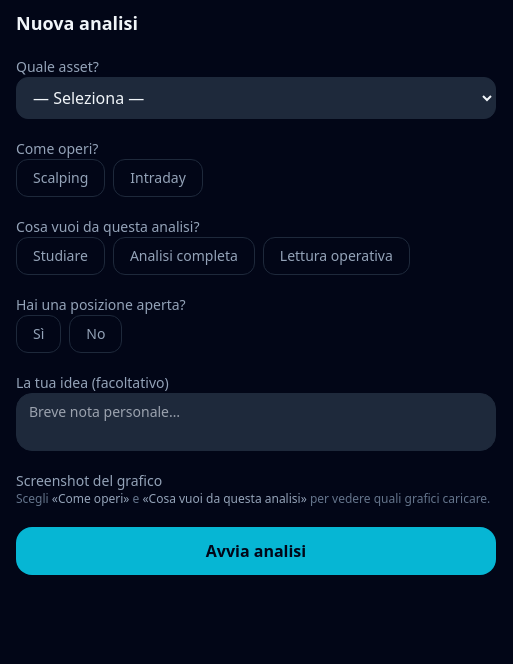
Test: NewAnalysisForm › mostra errori di validazione se submit senza campi obbligatori
The width and height of the screenshot is (513, 664).
Click the button "Avvia analisi": (256, 551) x1=16 y1=527 x2=496 y2=575
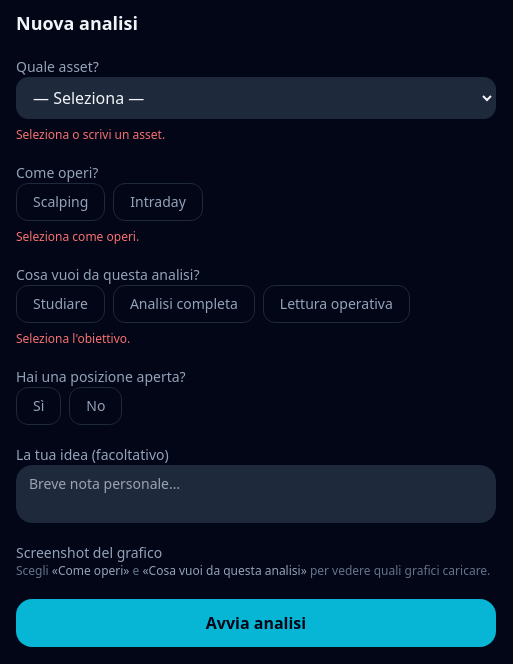
Now the message "Seleziona o scrivi un asset." is shown, box x1=16 y1=126 x2=165 y2=143
